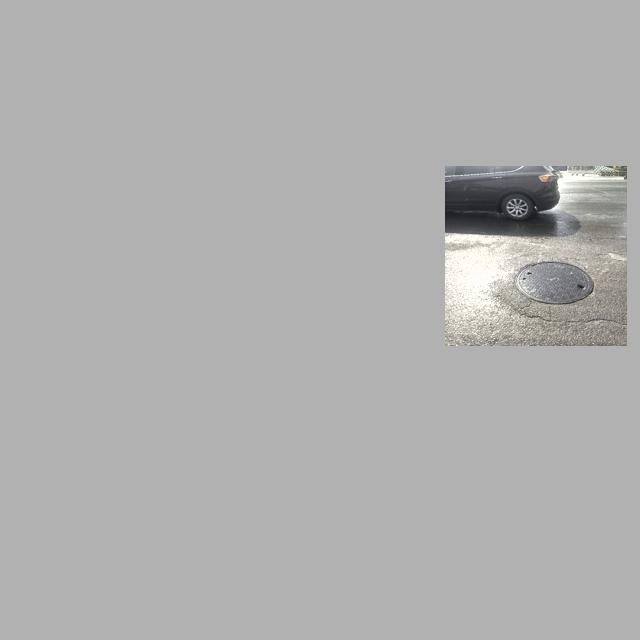good: (516, 261, 594, 304)
